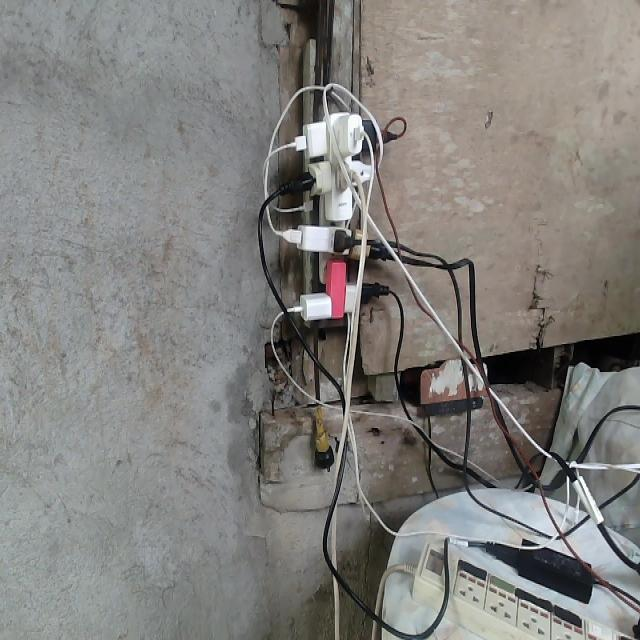-: (256, 104, 407, 331)
